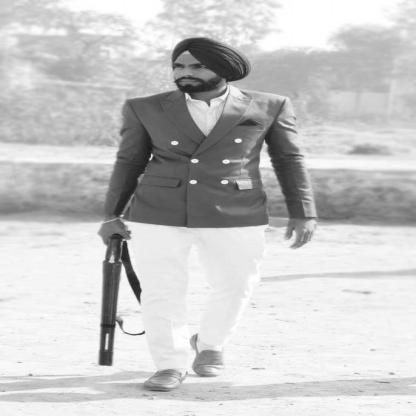rifle: (95, 224, 132, 367)
